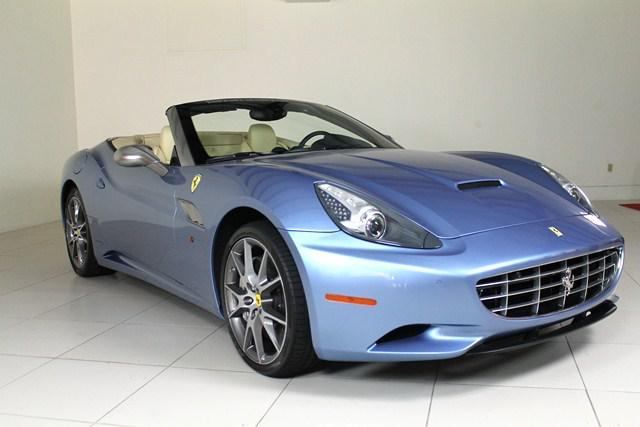Car: (50, 72, 624, 387)
